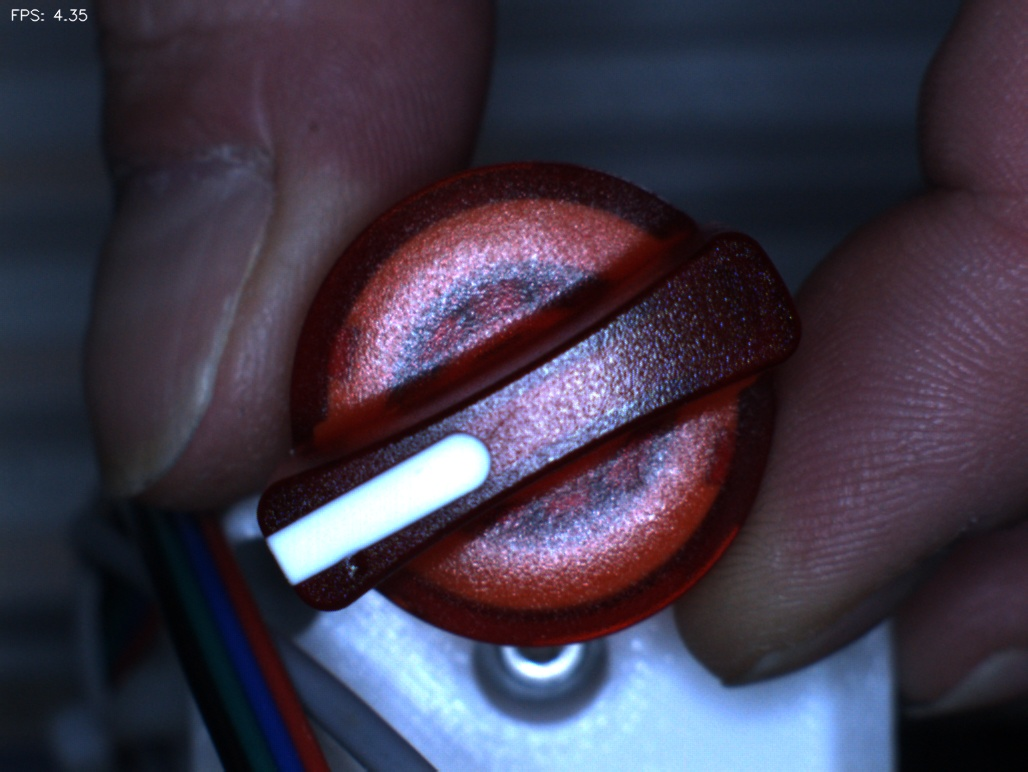Choc: (323, 535, 396, 608)
